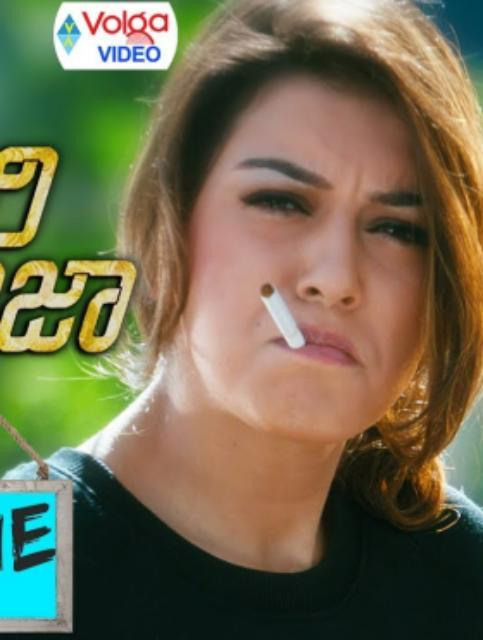SafeDriving: (235, 172, 324, 228), (352, 198, 440, 254)
Smoking: (254, 278, 306, 354)
